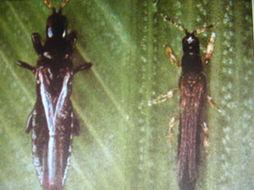pest: (29, 8, 81, 189), (175, 23, 211, 190)
